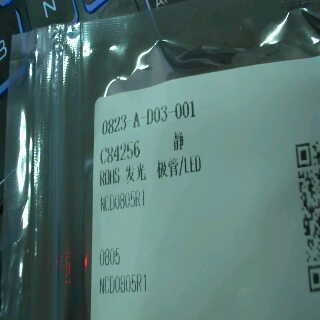LED: (122, 154, 203, 185)
